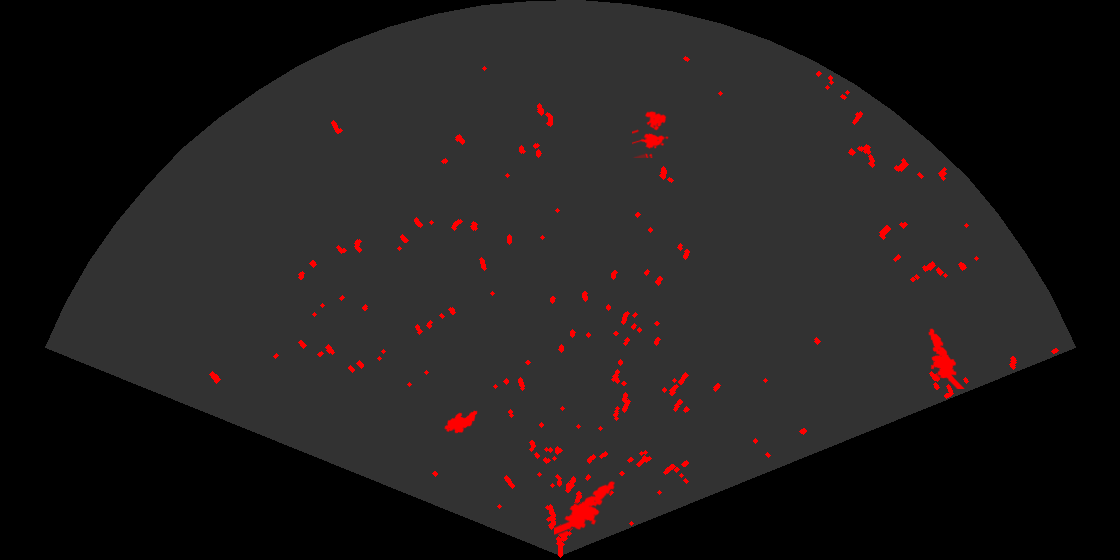AUV: (443, 409, 479, 435)
cage: (632, 109, 670, 158)
frogman: (554, 479, 617, 537), (927, 327, 966, 389)
